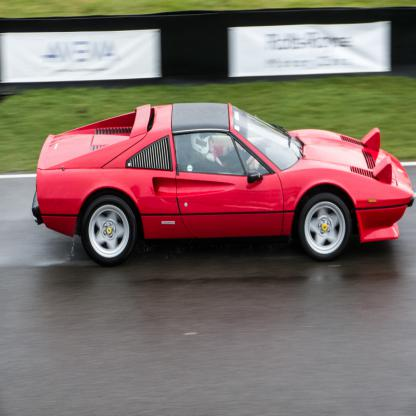Car: (32, 102, 414, 266)
